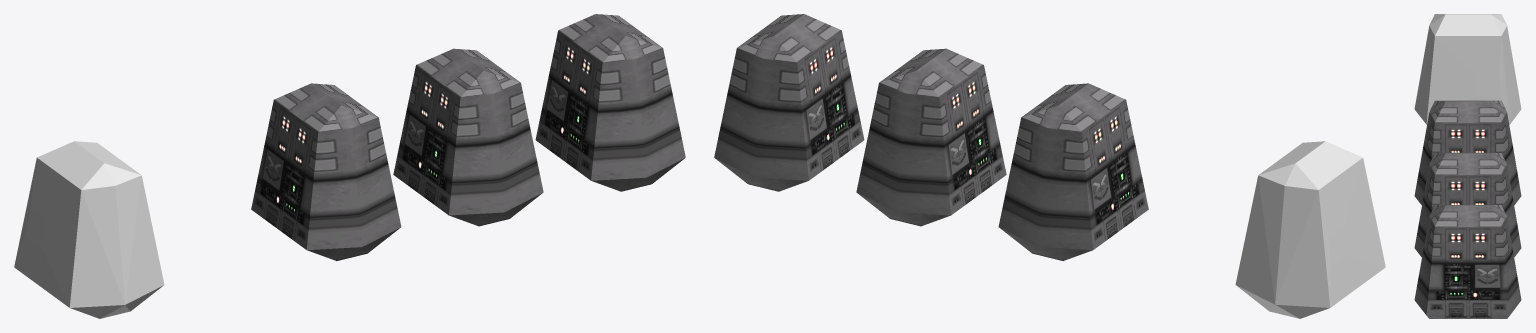
The model's file is ksh_sec_ms_module_armorresearch.dae.
3 renders of one model, left to right at view 1: azimuth 30°, elevation 25°; view 2: azimuth 150°, elevation 25°; view 3: azimuth 270°, elevation 25°, orthographic. The views are drawn at different scales.
Visible parts, largest first — view 1: COL[Root], MULT[Root_mesh]_LOD[0], MULT[Root_mesh]_LOD[1], MULT[Root_mesh]_LOD[2]; view 2: COL[Root], MULT[Root_mesh]_LOD[0], MULT[Root_mesh]_LOD[1], MULT[Root_mesh]_LOD[2]; view 3: MULT[Root_mesh]_LOD[2], COL[Root], MULT[Root_mesh]_LOD[1], MULT[Root_mesh]_LOD[0].
Boxes of the visible parts, box(x1,y1,x2,y2) form: COL[Root]: box(14, 141, 164, 318); MULT[Root_mesh]_LOD[0]: box(251, 83, 401, 260); MULT[Root_mesh]_LOD[1]: box(393, 48, 543, 226); MULT[Root_mesh]_LOD[2]: box(535, 14, 685, 191); COL[Root]: box(1235, 141, 1385, 318); MULT[Root_mesh]_LOD[0]: box(998, 83, 1148, 260); MULT[Root_mesh]_LOD[1]: box(856, 48, 1006, 226); MULT[Root_mesh]_LOD[2]: box(714, 14, 864, 191); MULT[Root_mesh]_LOD[2]: box(1414, 205, 1521, 318); COL[Root]: box(1414, 14, 1521, 124); MULT[Root_mesh]_LOD[1]: box(1414, 152, 1521, 257); MULT[Root_mesh]_LOD[0]: box(1414, 100, 1521, 205).
Bounding box in the file's own units: 755 × 169 × 151.
2 materials, 2 textured.
